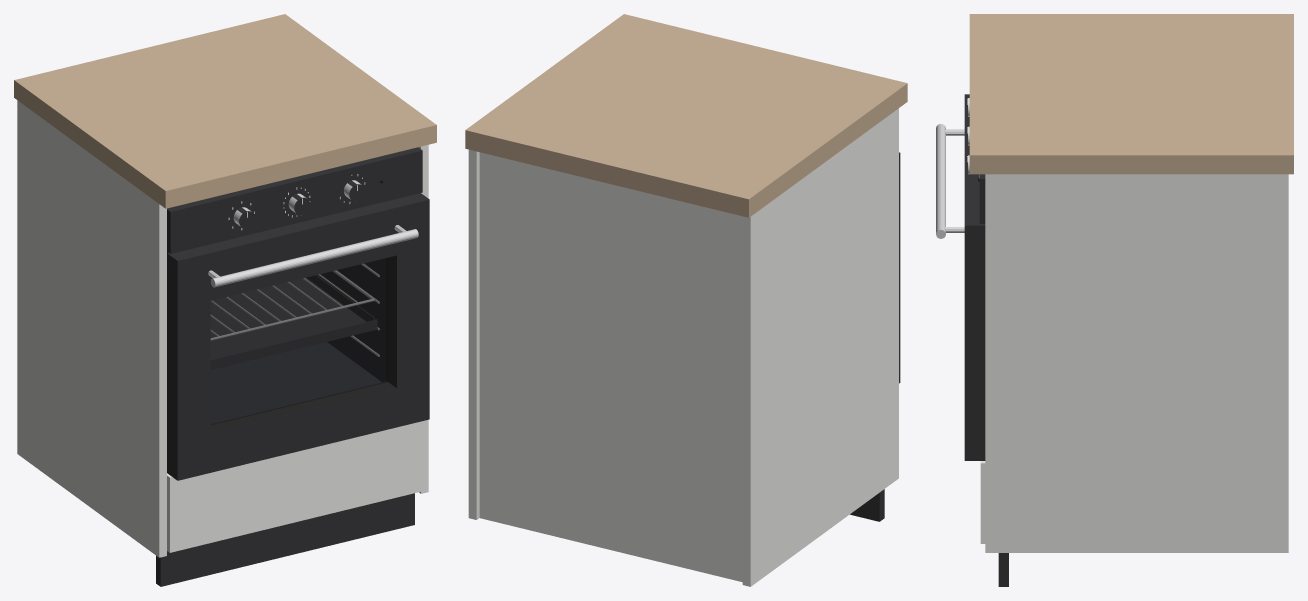
3 renders of one model, left to right at view 1: azimuth 30°, elevation 25°; view 2: azimuth 150°, elevation 25°; view 3: azimuth 270°, elevation 25°, orthographic. The views are drawn at different scales.
Visible parts, largest first — view 1: Cabinet, Door, Worktop, DrawerFront, Cavity, ControlPanel, BakingTray, WireShelf; view 2: Cabinet, Worktop; view 3: Cabinet, Worktop, Door, DrawerFront.
Part boxes in pixels (x1=…): Cabinet: x1=17, y1=100, x2=428, y2=586; Door: x1=168, y1=193, x2=429, y2=480; Worktop: x1=14, y1=14, x2=436, y2=208; DrawerFront: x1=167, y1=421, x2=422, y2=552; Cavity: x1=210, y1=258, x2=386, y2=423; ControlPanel: x1=167, y1=147, x2=422, y2=253; BakingTray: x1=210, y1=275, x2=377, y2=369; WireShelf: x1=210, y1=270, x2=375, y2=340; Cabinet: x1=468, y1=108, x2=898, y2=586; Worktop: x1=465, y1=14, x2=907, y2=217; Cabinet: x1=985, y1=174, x2=1288, y2=586; Worktop: x1=969, y1=14, x2=1293, y2=174; Door: x1=936, y1=94, x2=985, y2=460; DrawerFront: x1=980, y1=461, x2=985, y2=543.
Size of the model in its own units: 0.64 by 0.92 by 0.6845.
